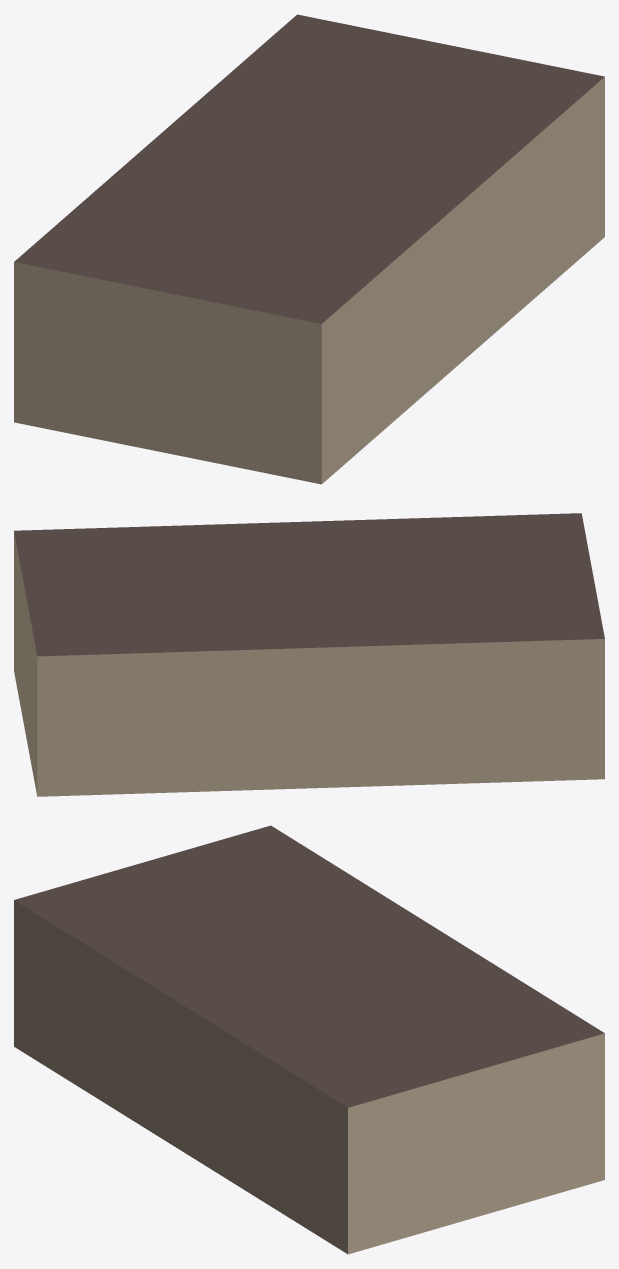
3 renders of one model, top to bottom at view 1: azimuth 30°, elevation 25°; view 2: azimuth 150°, elevation 25°; view 3: azimuth 270°, elevation 25°, orthographic. The views are drawn at different scales.
Parts seen in each view (by area): view 1: HP-w369342473; view 2: HP-w369342473; view 3: HP-w369342473.
Boxes of the visible parts, left/top/right/bottom form: HP-w369342473: left=14, top=14, right=604, bottom=484; HP-w369342473: left=14, top=513, right=604, bottom=796; HP-w369342473: left=14, top=825, right=604, bottom=1254.
Bounding box in the file's own units: 37.17 × 9 × 32.87.
